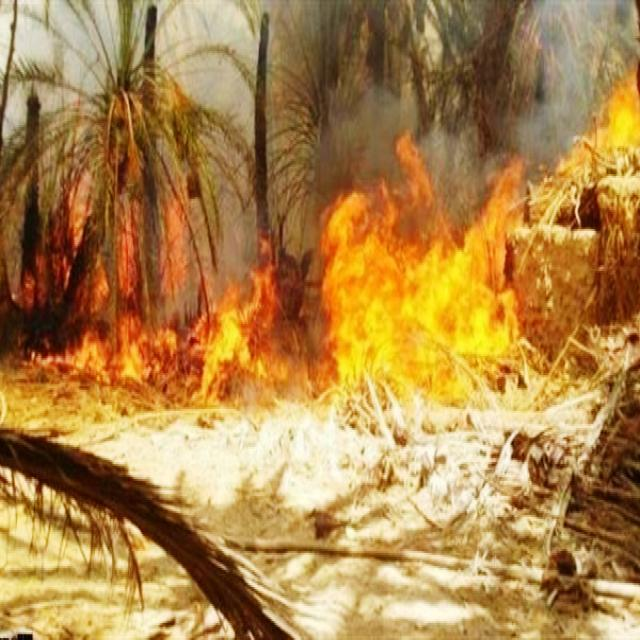api: (316, 197, 527, 402), (177, 286, 277, 399), (77, 315, 165, 392), (397, 132, 444, 203), (602, 78, 637, 158), (165, 191, 186, 285)
asap: (487, 27, 580, 169), (293, 82, 401, 198)
